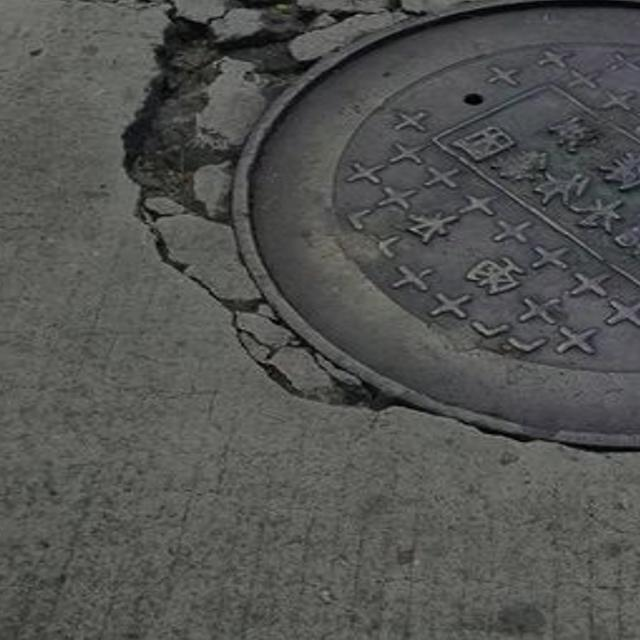circle: (104, 0, 640, 493)
